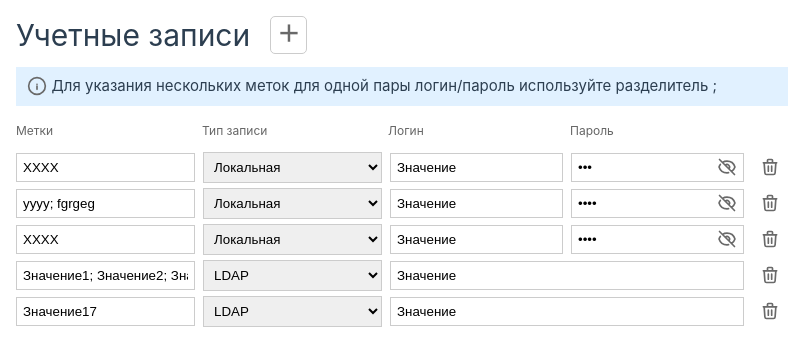
it: UserTable.vue › позволяет удалить учетную запись
Click the 1st button named "удалить запись".
click(770, 167)  # box [752,149,788,185]
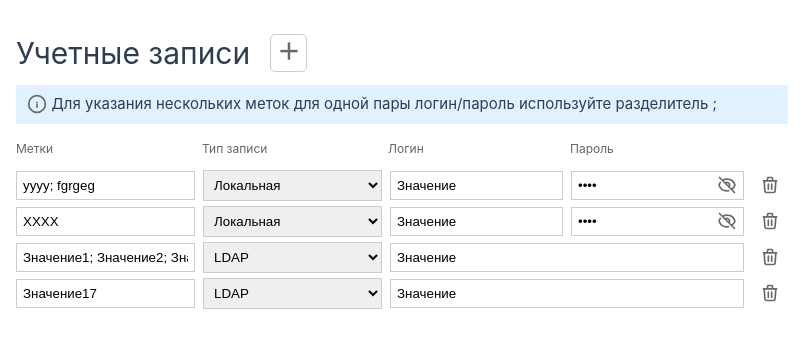
Check: the number of fields with placeholder "Логин" is 4, box [391,172,562,198]; [391,208,562,234]; [391,244,743,270]; [391,280,743,306]
